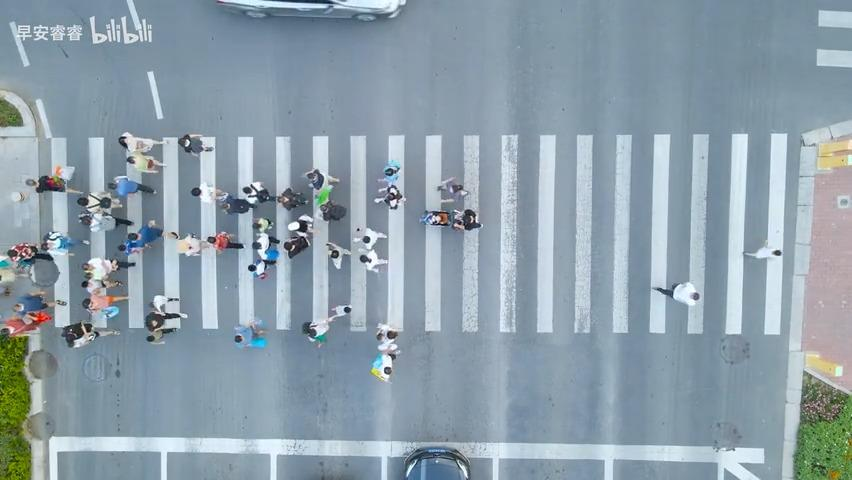Civilian: (370, 322, 401, 383), (60, 320, 120, 349), (42, 229, 91, 260), (79, 289, 133, 317), (144, 311, 187, 344), (25, 165, 75, 193), (187, 178, 228, 212), (80, 253, 133, 279), (318, 237, 350, 279), (238, 173, 276, 207), (75, 190, 126, 215), (11, 290, 62, 315), (167, 232, 207, 263), (651, 281, 699, 306), (79, 213, 124, 239), (1, 315, 47, 339), (72, 273, 127, 293), (117, 131, 166, 153), (239, 259, 277, 287), (242, 231, 278, 260), (216, 197, 253, 225), (233, 318, 266, 348), (203, 227, 236, 257), (147, 291, 188, 315), (4, 239, 43, 264), (110, 175, 156, 196), (124, 220, 161, 246), (313, 198, 348, 225), (376, 158, 409, 185), (287, 209, 316, 239), (178, 133, 214, 157), (273, 188, 310, 211), (301, 318, 330, 347), (356, 253, 398, 273), (352, 226, 387, 250), (373, 184, 405, 209), (436, 176, 469, 200), (250, 214, 279, 241), (742, 239, 781, 259), (304, 168, 339, 190), (451, 208, 482, 230), (283, 238, 308, 262), (419, 209, 450, 226), (329, 304, 351, 323)
